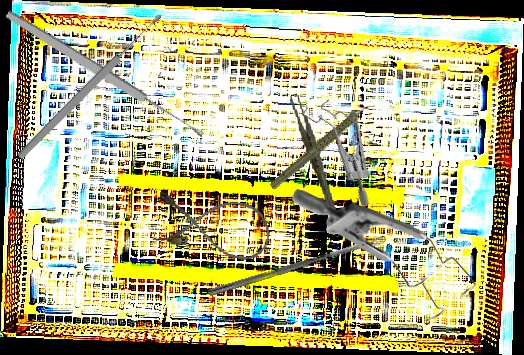Cannula: (150, 187, 275, 264)
Handpiece: (257, 101, 389, 192)
Speculum: (289, 189, 480, 322), (275, 88, 405, 209)
Surgical Spoon: (4, 8, 206, 141), (14, 11, 166, 162), (207, 236, 385, 298)
Tissue Forceps: (288, 91, 344, 233)
